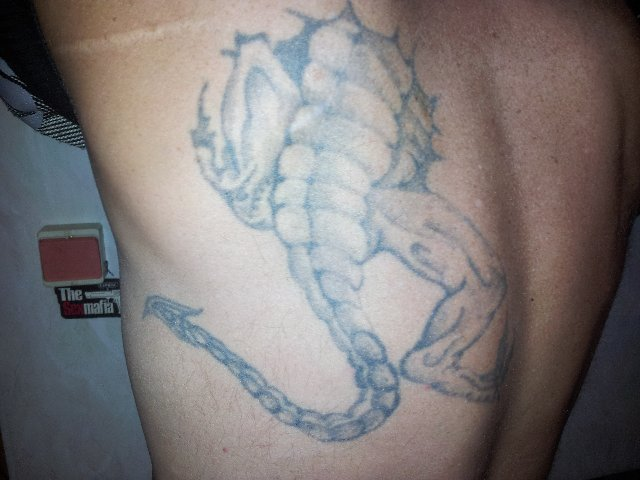tatu6_drakon: (123, 1, 520, 449)
